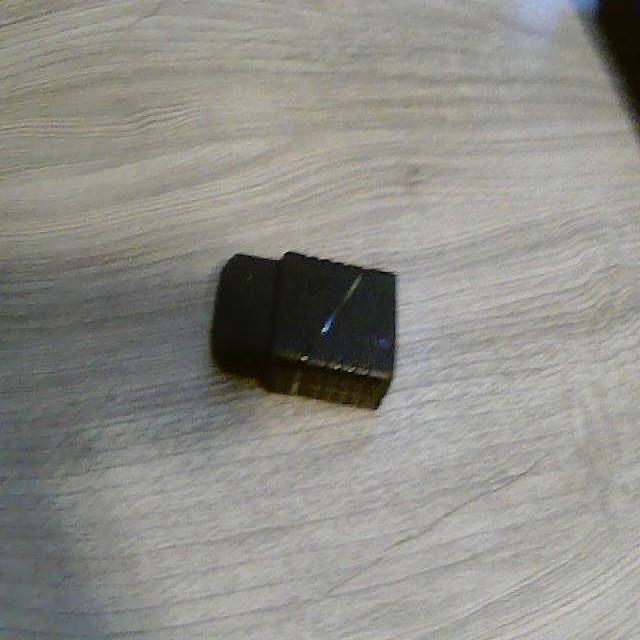borracha: (201, 228, 421, 426)
